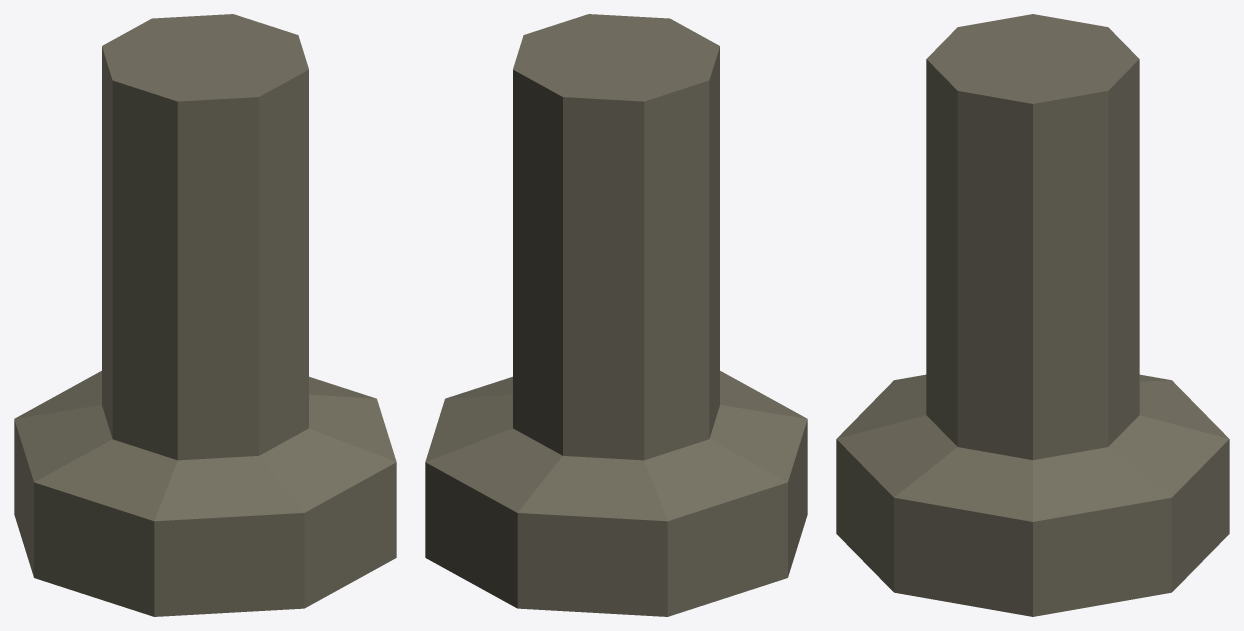
Rendered from flashlight.glb.
3 views of the same model, side by side, from view 1: azimuth 30°, elevation 25°; view 2: azimuth 150°, elevation 25°; view 3: azimuth 270°, elevation 25° (orthographic).
Parts seen in each view (by area): view 1: Flashlight; view 2: Flashlight; view 3: Flashlight.
Part boxes in pixels (left/top/right/bottom): Flashlight: left=14, top=14, right=396, bottom=616; Flashlight: left=425, top=14, right=807, bottom=616; Flashlight: left=836, top=14, right=1229, bottom=616.
Size of the model in its own units: 0.15 by 0.2 by 0.15.
1 material, 1 textured.
